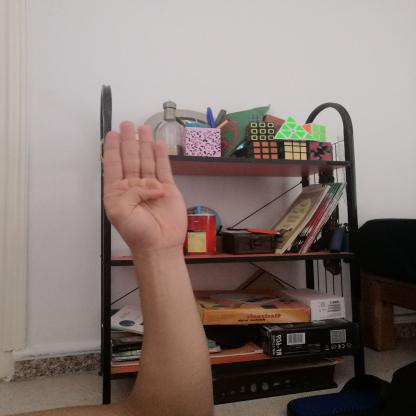KAAF: (87, 113, 199, 262)
